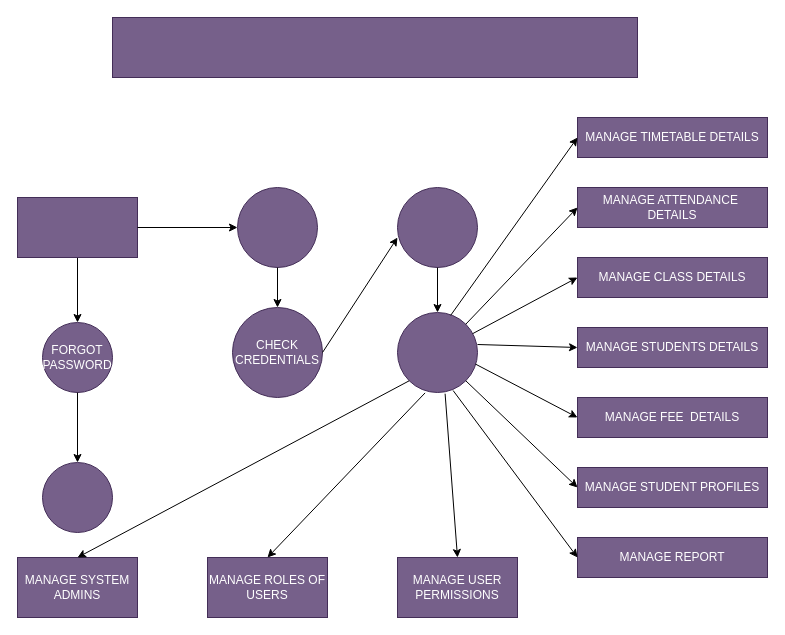
Some shapes in this 785 by 635 pixel diagram are drawn without their labels. Each missing label, with the centre of its shape:
"ADMIN" belongs at [77,227].
"CHECK ROLES OF ACCESS" belongs at [437,227].
"LOGIN TO SYSTEM" belongs at [277,227].
"MANAGE MODULES" belongs at [437,352].
"SEND EMAIL TO USER" belongs at [77,497].
"STUDENT INFORMATION SYSYTEM" belongs at [375,47].
